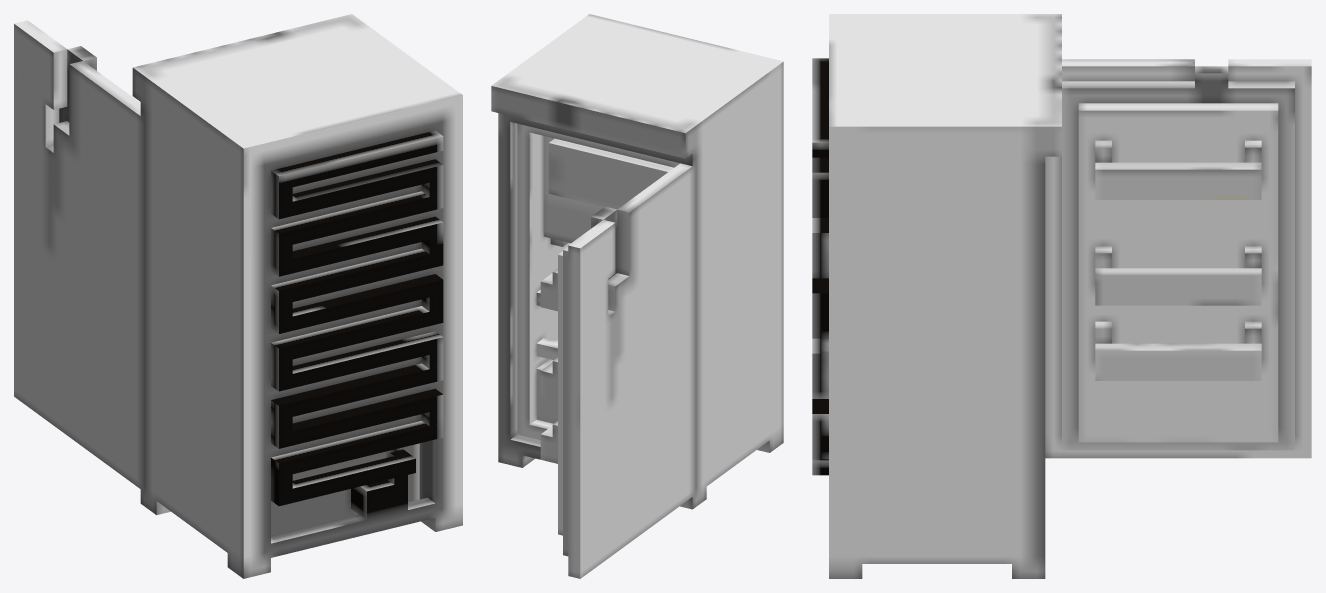
File: Geladeira.fbx
The picture shows the model from 3 angles, left to right: view 1: azimuth 30°, elevation 25°; view 2: azimuth 150°, elevation 25°; view 3: azimuth 270°, elevation 25°; orthographic projection. The views are drawn at different scales.
Visible parts, largest first — view 1: Geladeira; view 2: Geladeira; view 3: Geladeira.
Boxes of the visible parts, x1,y1,x2,y2 form: Geladeira: (14,14,462,578); Geladeira: (491,14,783,578); Geladeira: (812,14,1311,578).
Size of the model in its own units: 160 by 300 by 300.
